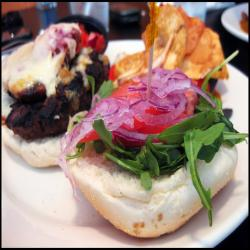burger: (2, 22, 120, 178)
